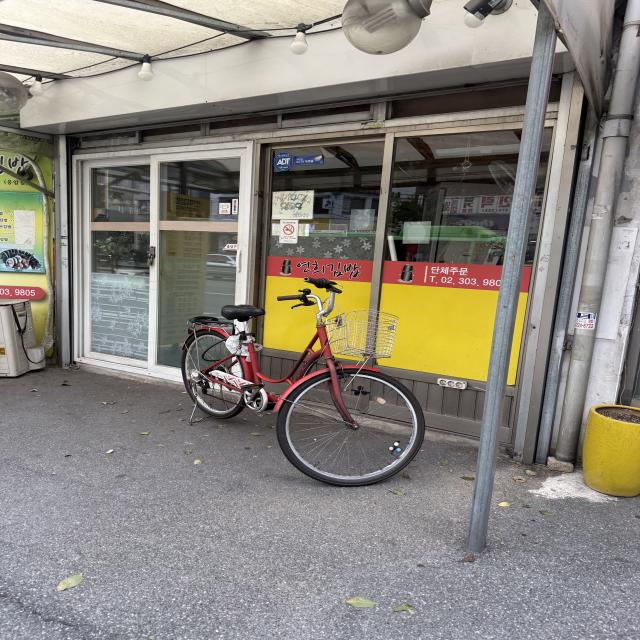bicycle: (170, 246, 449, 512)
